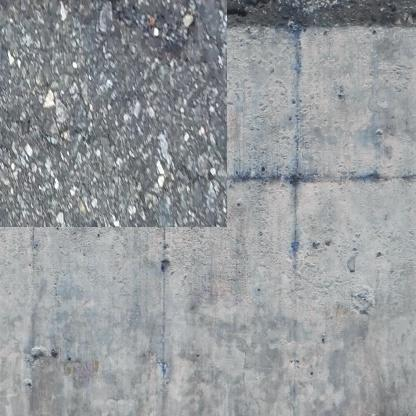Cracks: (0, 0, 194, 49)
